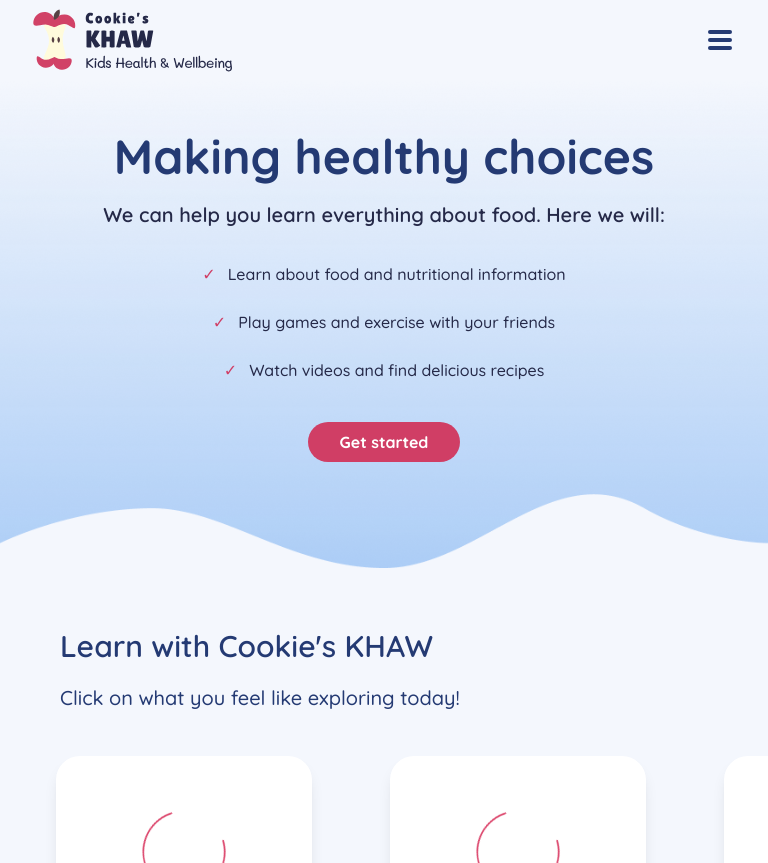
Test: Homepage › Can toggle mobile menu and see options when menu is open
Click the button named "menu-toggle" at (720, 40), box [696, 16, 744, 64]
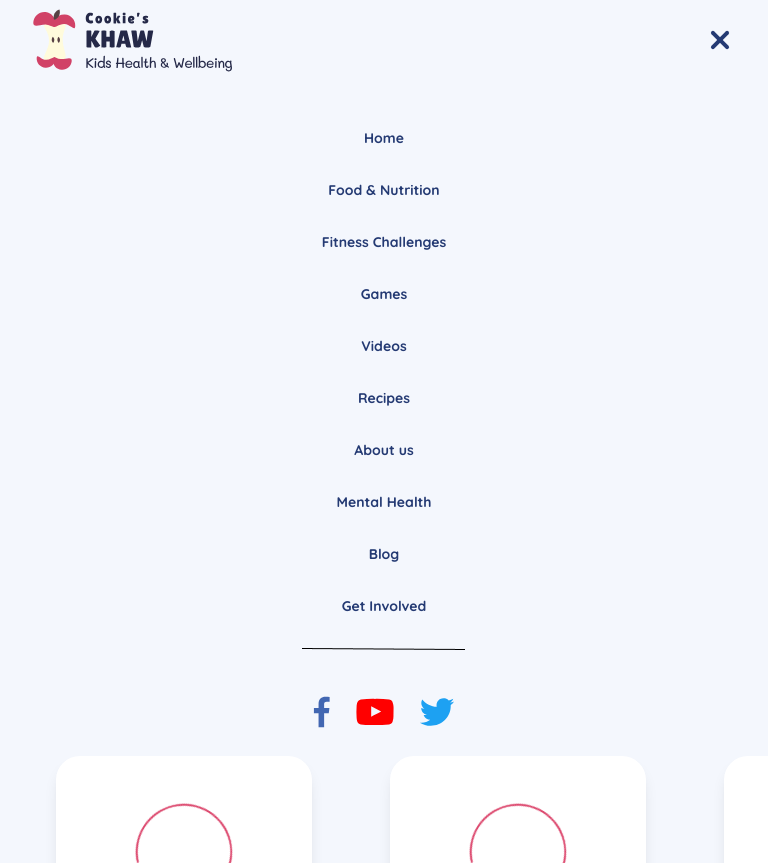
expect the link to "/FoodAndNutrition" is shown: met, box [328, 181, 439, 199]
Click the button named "menu-toggle" at (720, 40), box [696, 16, 744, 64]
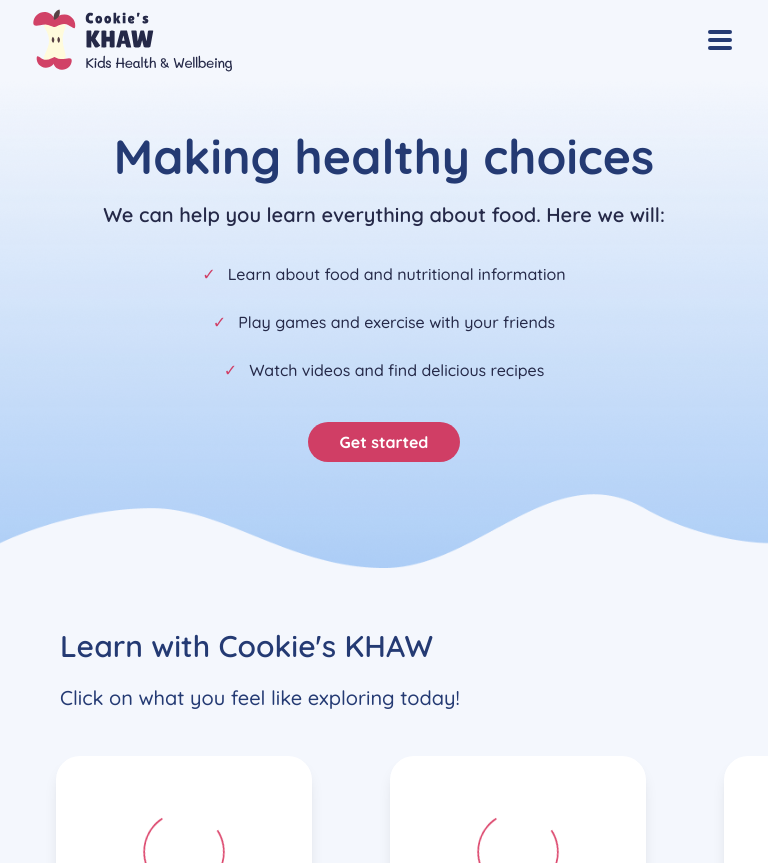
expect the element with test id "mobile-menu" is gone: met
